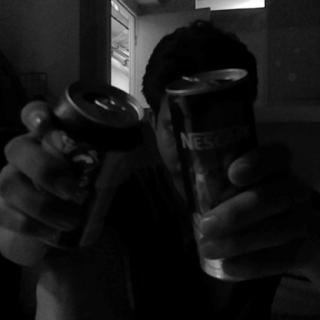alumunium_can: (166, 64, 265, 284), (28, 76, 145, 254)
